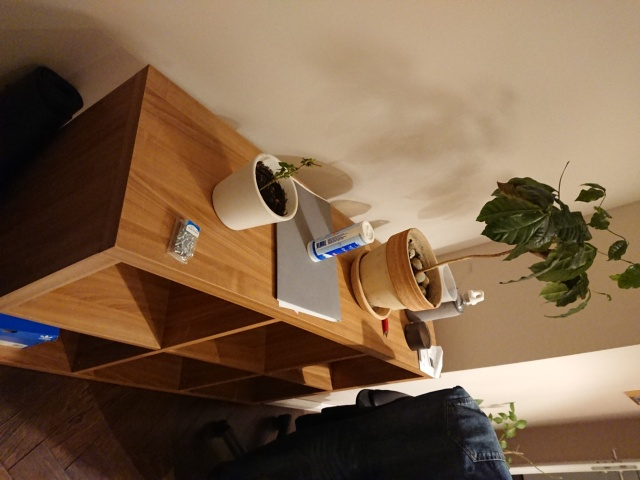Solana Pag Fine Sea Salt 250g: (303, 217, 379, 267)
